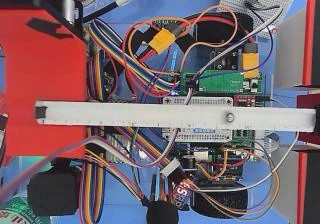ironball: (223, 113, 233, 122)
